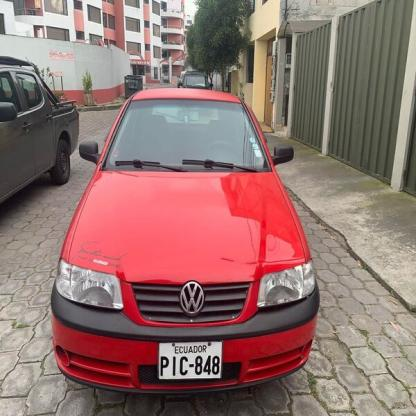Placa: (157, 340, 225, 382)
